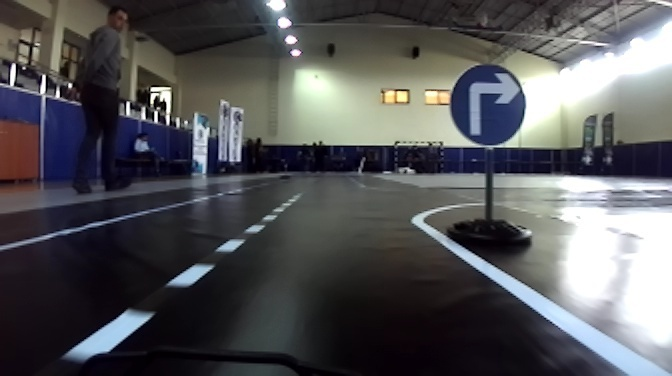saga_donus: (448, 68, 524, 145)
